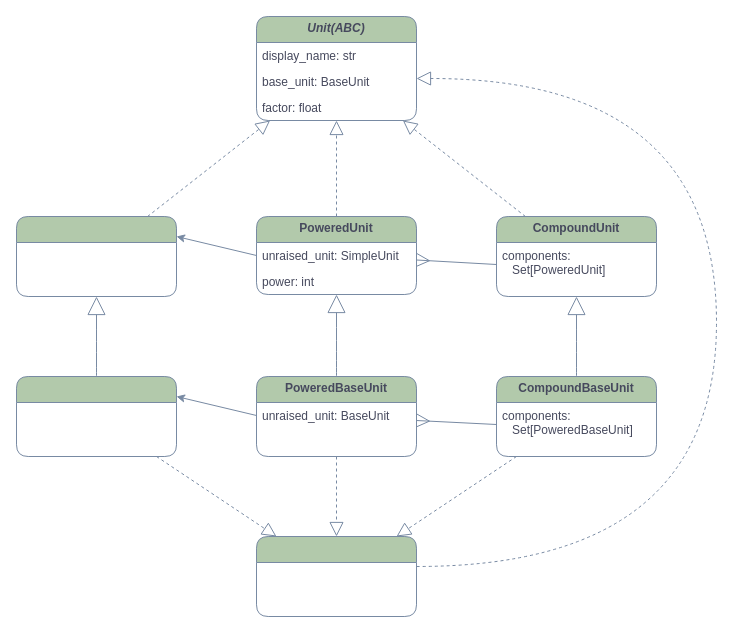
This 733x633 diagram has some shape labels left out. Each missing label, with the centre of its shape:
BaseUnit(ABC): the point at 336,576
SimpleBaseUnit: the point at 96,416
SimpleUnit: the point at 96,256
